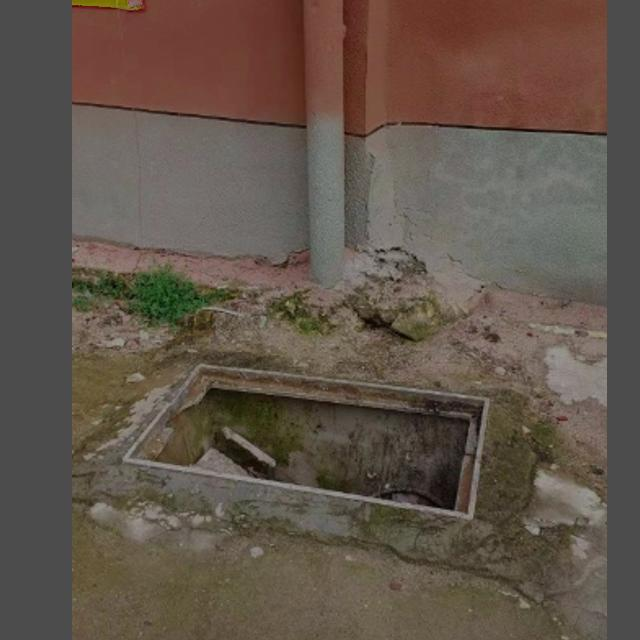lose: (125, 363, 493, 519)
